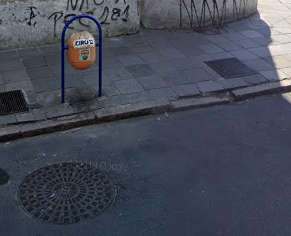vag38: (2, 64, 285, 145)
